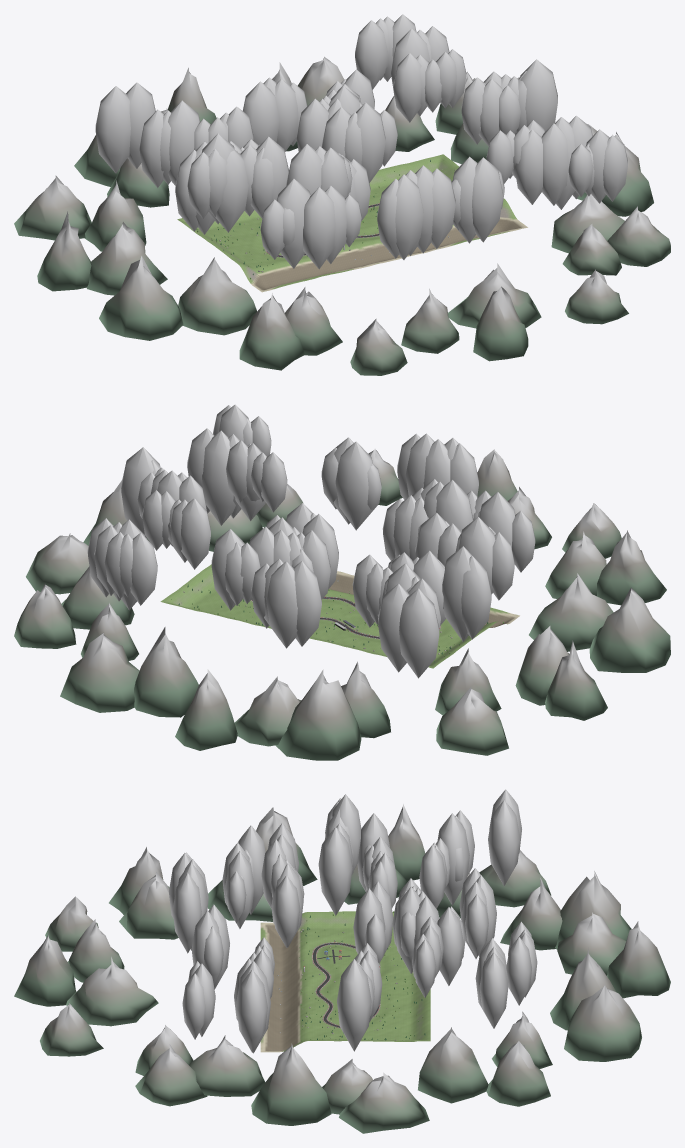
The model's file is costa.glb.
3 renders of one model, top to bottom at view 1: azimuth 30°, elevation 25°; view 2: azimuth 150°, elevation 25°; view 3: azimuth 270°, elevation 25°, orthographic. The views are drawn at different scales.
Visible parts, largest first — view 1: CloudMesh, Backdrop, Terrain-col; view 2: CloudMesh, Backdrop, Terrain-col; view 3: Backdrop, CloudMesh, Terrain-col.
Boxes of the visible parts, bbox=[...] form: CloudMesh: bbox=[95, 14, 627, 269]; Backdrop: bbox=[14, 56, 670, 375]; Terrain-col: bbox=[177, 154, 527, 292]; CloudMesh: bbox=[87, 404, 535, 678]; Backdrop: bbox=[14, 448, 670, 760]; Terrain-col: bbox=[160, 564, 519, 668]; Backdrop: bbox=[14, 804, 670, 1133]; CloudMesh: bbox=[169, 789, 537, 1053]; Terrain-col: bbox=[260, 911, 430, 1052].
Size of what is drawn, in the model's own units: 2520 by 582 by 2520.
Materials: 10 (6 with a texture image).
